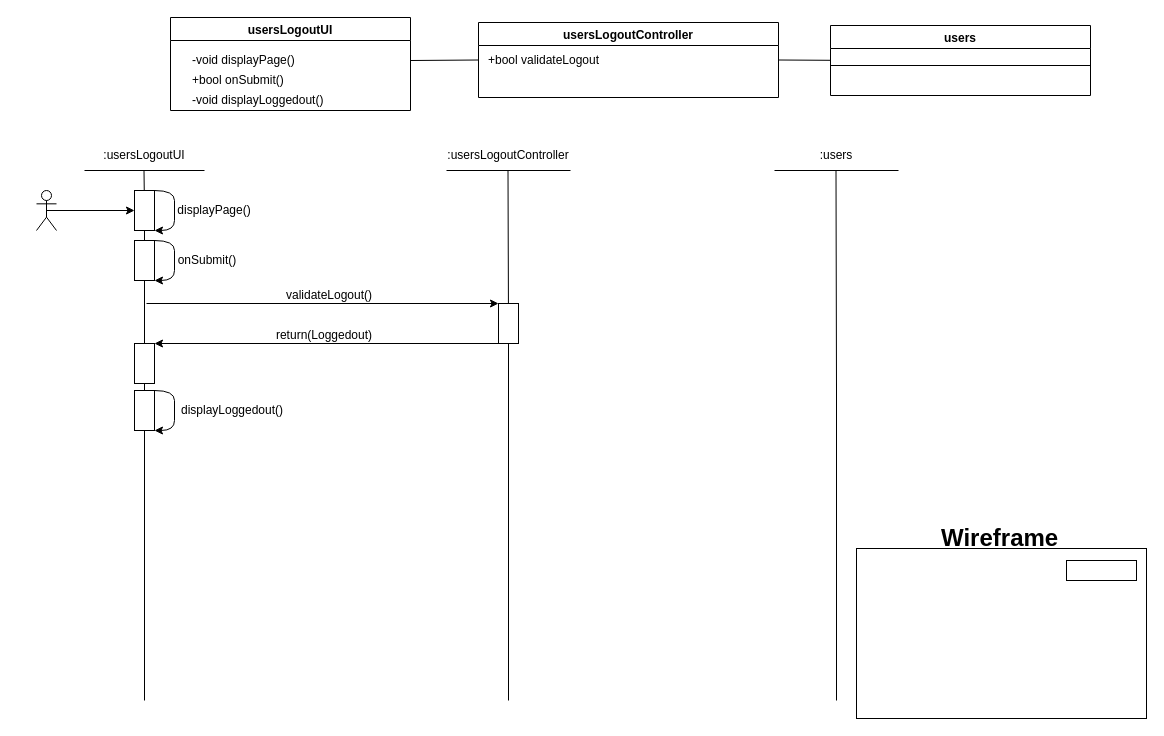
This 1164x736 diagram has some shape labels left out. Here are the shapes that lost their labels. From the top down, the centre of each, then its label:
At [46,210]: "Restaurant Manager".
At [1101,570]: "Log out".
